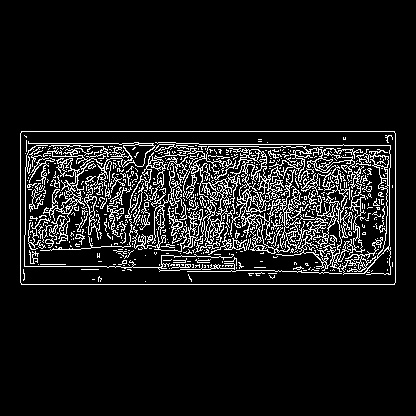buddha-horse-riding: (49, 84, 237, 207)
